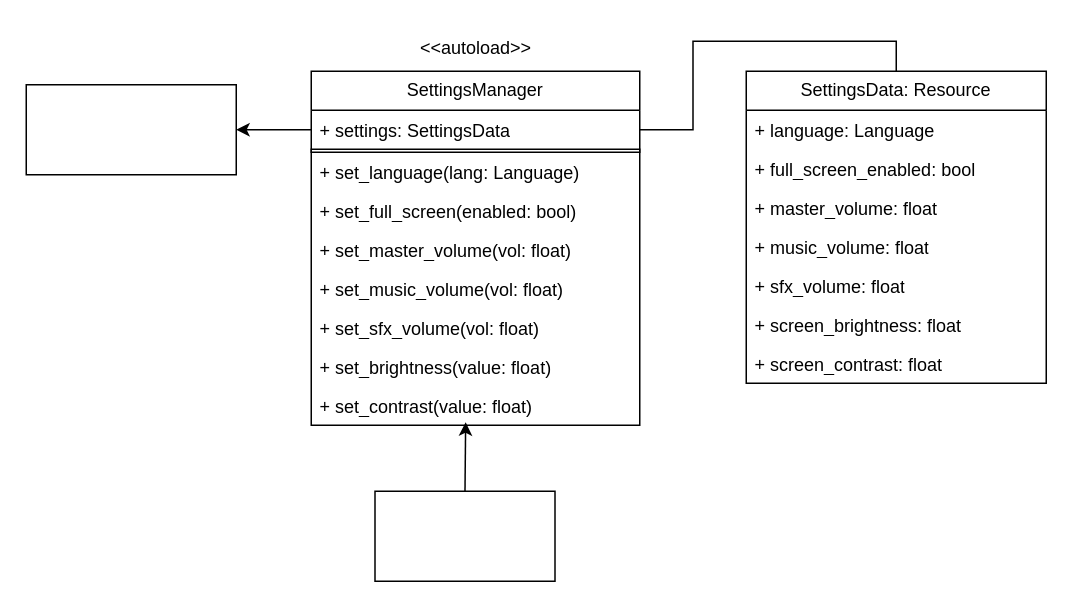
Image size: 1073x608. Some labels were removed from this diagram. Here are the shapes that lost their labels. From the top down, the centre of each, then its label:
pixel 130 129: ScreenEnvironment
pixel 464 535: SettingsMenu
